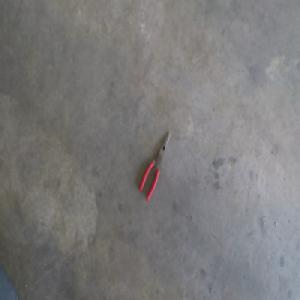Pliers: (138, 133, 171, 203)
